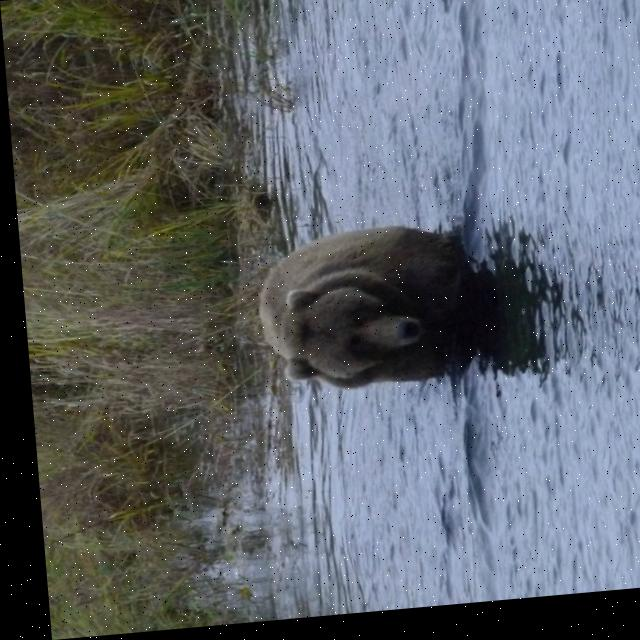bear face: (251, 233, 441, 400)
